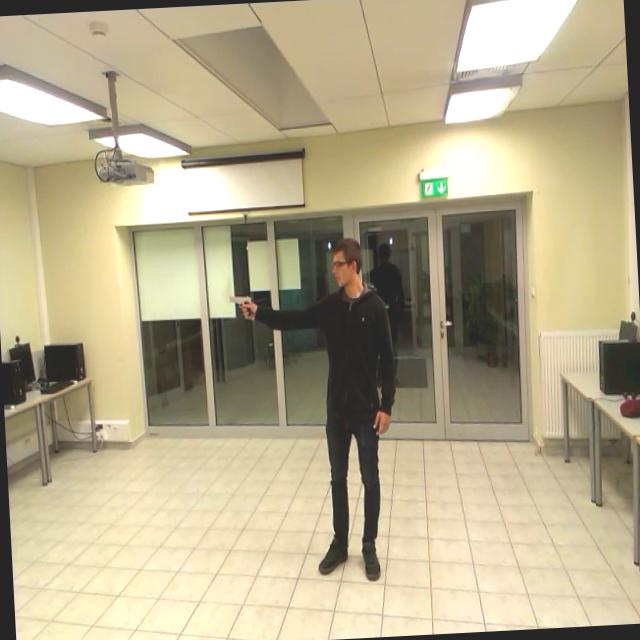handgun: (222, 286, 258, 326)
